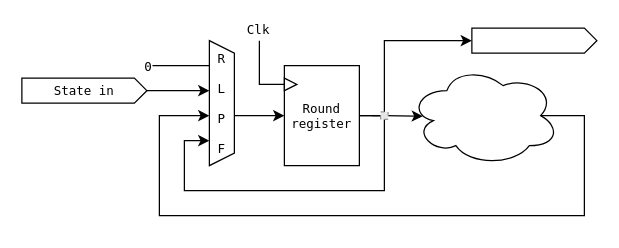
The diagram is 619 pixels wide and 248 high, and some of its shapes have lost their labels. Grey dashed boxes stand in for pictures. Here are the shapes that lost their labels. From the top down, the box of each, then its label:
(471, 27, 597, 53): State out
(408, 64, 559, 166): Permutation
